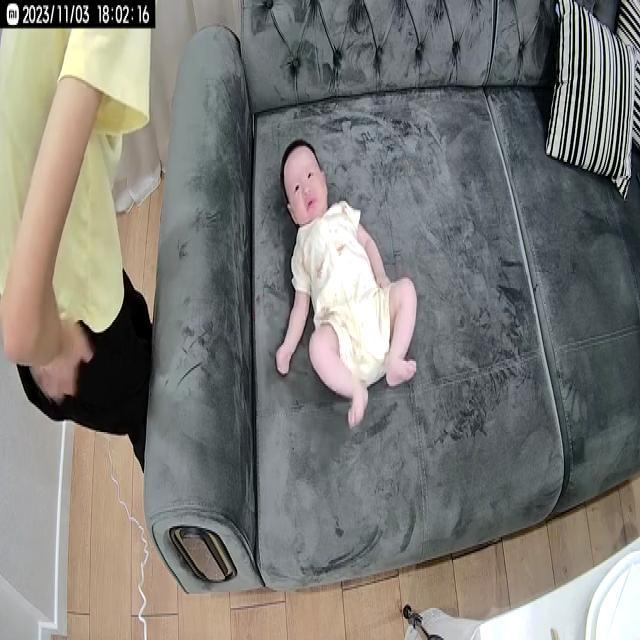baby: (274, 138, 424, 430)
